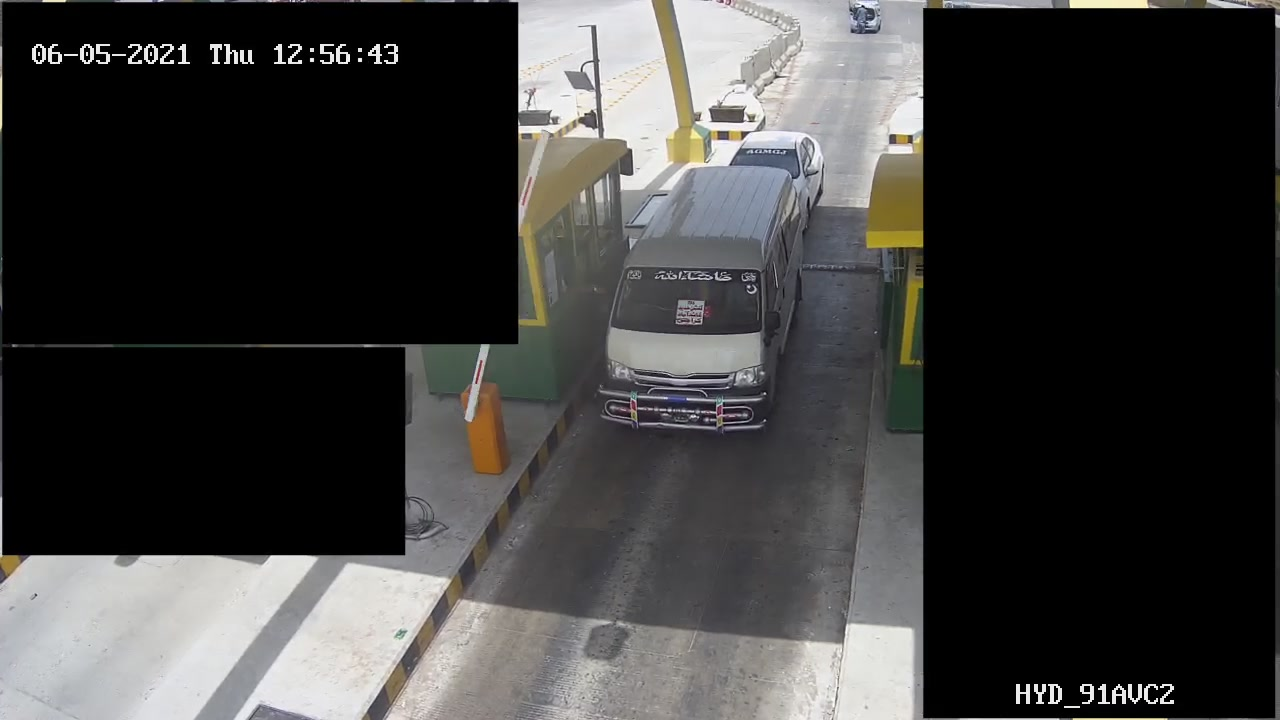F2: (603, 162, 809, 442)
